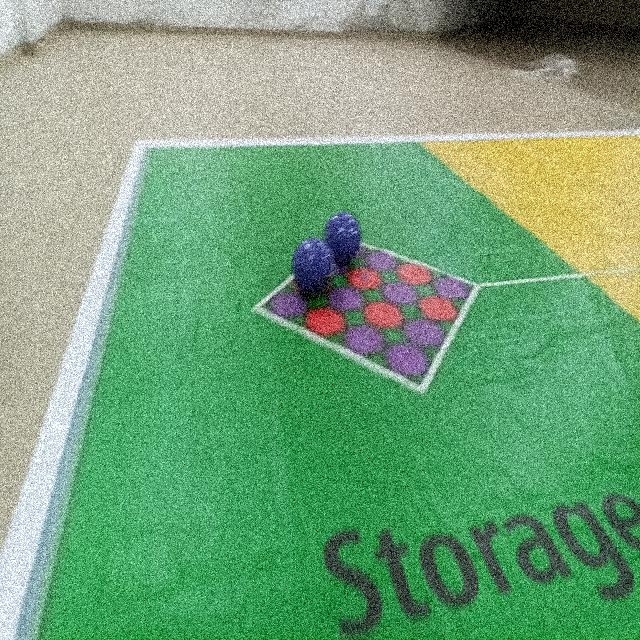purple_ball: (290, 232, 339, 305), (321, 207, 364, 272)
